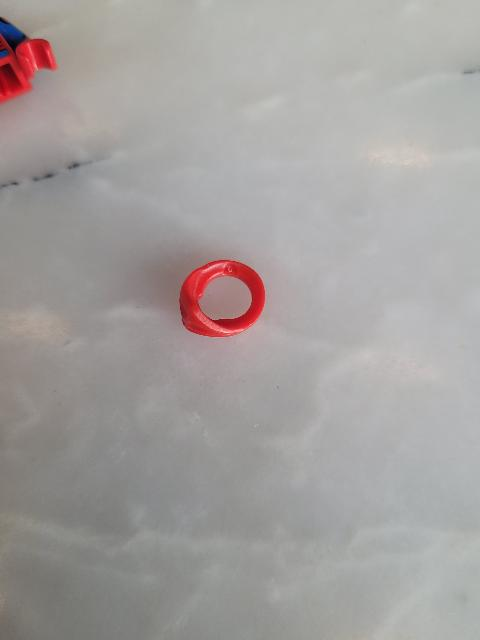Plastik: (177, 259, 270, 343), (0, 9, 61, 124)
